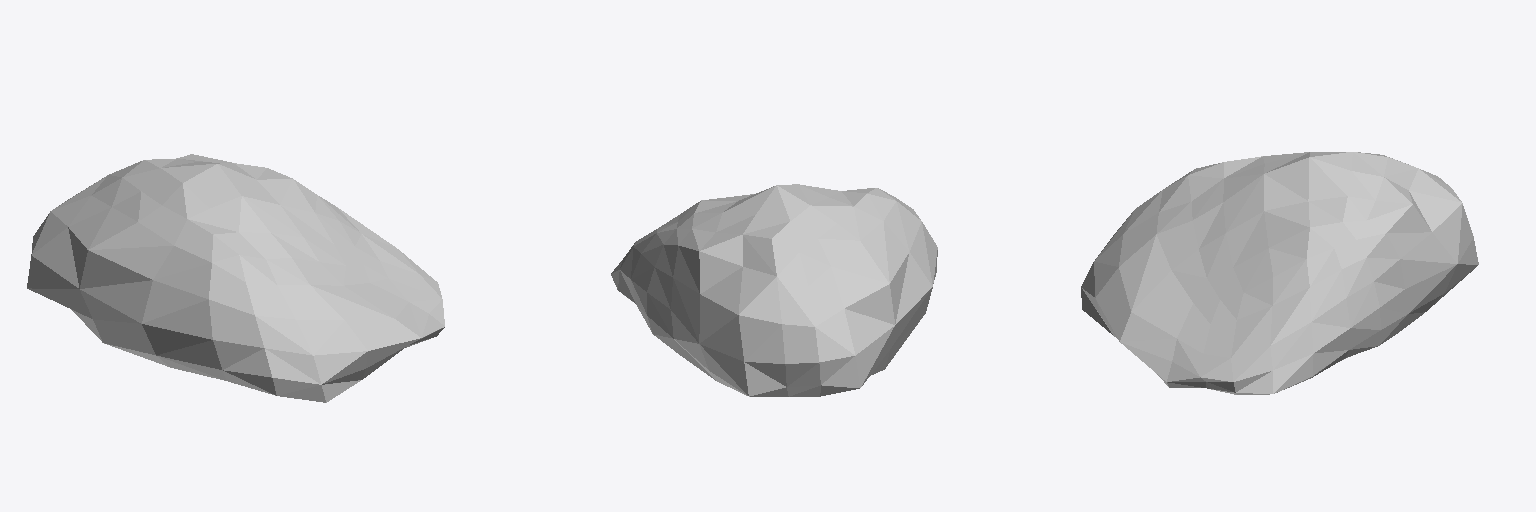
The model's file is rock15.obj.
3 renders of one model, left to right at view 1: azimuth 30°, elevation 25°; view 2: azimuth 150°, elevation 25°; view 3: azimuth 270°, elevation 25°, orthographic.
Visible parts, largest first — view 1: Mesh; view 2: Mesh; view 3: Mesh.
Part boxes in pixels (bbox=[...]): Mesh: bbox=[27, 154, 444, 402]; Mesh: bbox=[611, 184, 937, 396]; Mesh: bbox=[1081, 152, 1478, 394].
Bounding box in the file's own units: 5.73 × 2.98 × 6.14.